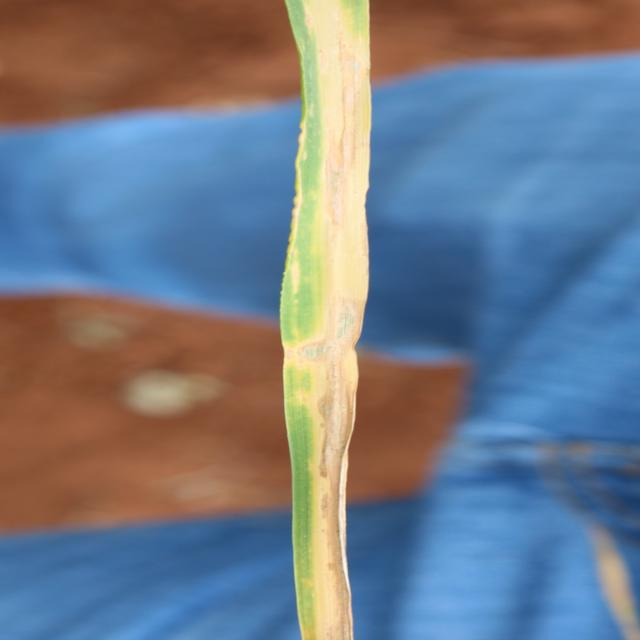Septoria: (277, 1, 373, 638)
